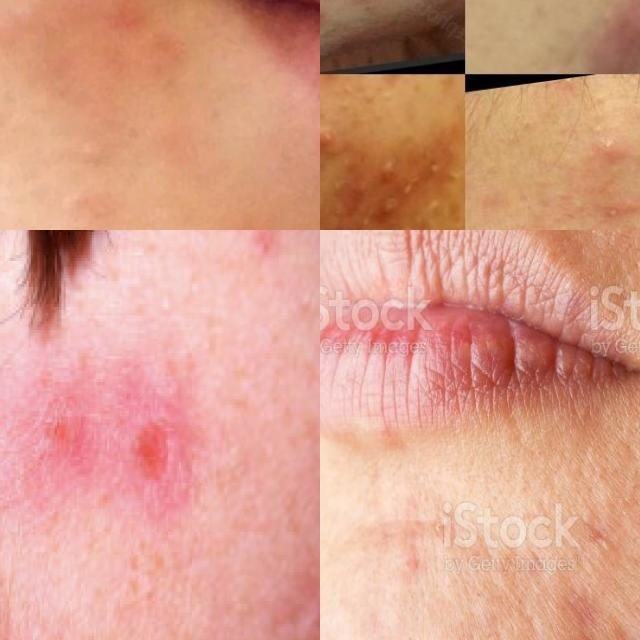acne_scars: (541, 0, 640, 74)
comedone: (419, 183, 446, 219), (442, 74, 465, 92), (320, 0, 337, 5)
folliculitis: (596, 198, 632, 225)
pustule: (320, 122, 356, 170), (320, 74, 344, 95), (342, 0, 390, 8)
